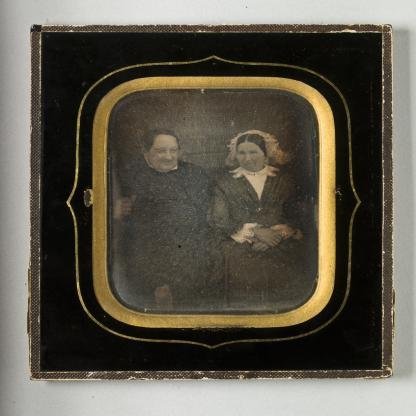Picture-frame: (31, 25, 396, 387)
